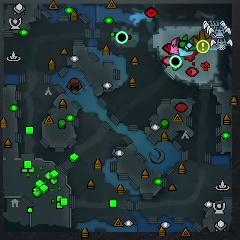p2Clone: (169, 55, 183, 69), (116, 30, 128, 46)
x1: (170, 39, 180, 55)
x3: (178, 47, 194, 56)
x4: (181, 34, 196, 50)
x5: (194, 30, 212, 48)
